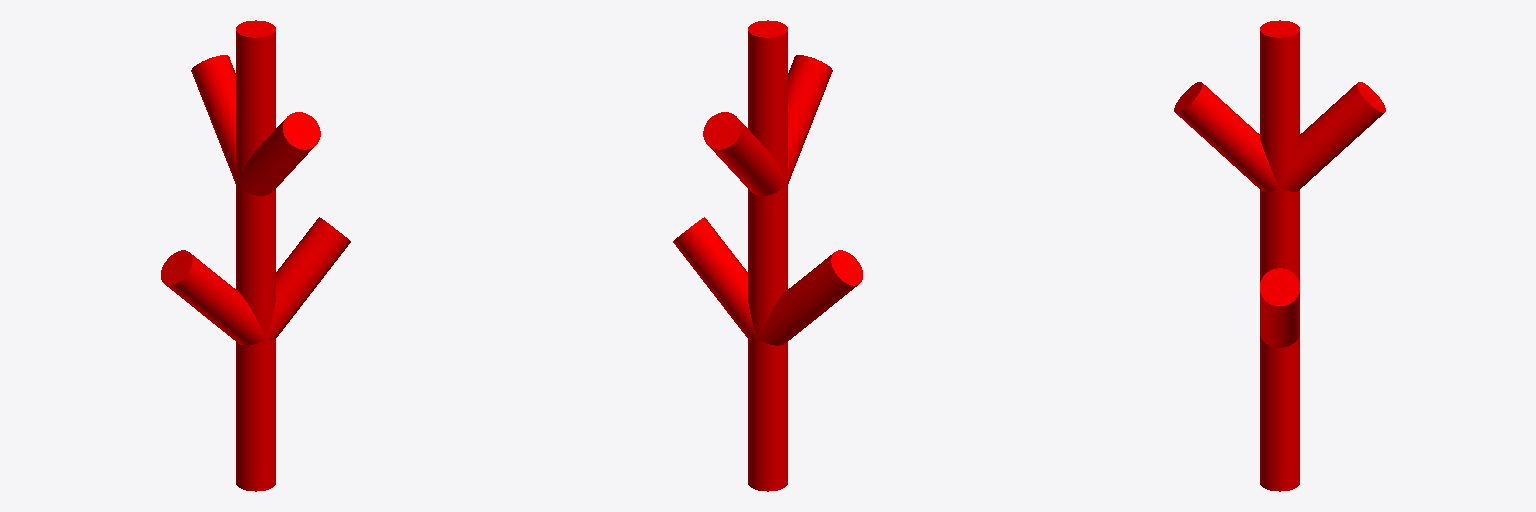
The robot description file, URDF, robot "tree.urdf":
<?xml version="1.0" ?>
<robot name="tree.urdf">
  <link name="baseLink">
    <inertial>
      <origin rpy="0 0 0" xyz="0 0 0"/>
       <mass value=".1"/>
       <inertia ixx="1" ixy="0" ixz="0" iyy="1" iyz="0" izz="1"/>
    </inertial>
    <visual>
      <origin rpy="0 0 0" xyz="0 0 0"/>
      <geometry>
        <mesh filename="5.stl" scale="1 1 1" />
      </geometry>
      <material name="red">
        <color rgba="1 0 0 1"/>
      </material>
    </visual>
    <collision>
      <origin rpy="0 0 0" xyz="0 0 0"/>
      <geometry>
        <mesh filename="5_convex.obj" scale="1 1 1" />
      </geometry>
    </collision>
  </link>
</robot>

--- Render facts (derived) ---
3 views of the same robot in one strip: view 1: azimuth 30°, elevation 25°; view 2: azimuth 150°, elevation 25°; view 3: azimuth 270°, elevation 25° (orthographic).
Model tree.urdf with 1 links and 0 joints (none), rooted at baseLink, posed all joints at 0.
Visible links, largest first — view 1: baseLink; view 2: baseLink; view 3: baseLink.
Link boxes in pixels (x1,y1,x2,y2): baseLink: [161, 20, 350, 491]; baseLink: [673, 20, 862, 491]; baseLink: [1174, 20, 1385, 491].
Bounding box of the posed robot: 0.2502 × 0.2502 × 0.5913 m (x, y, z).
1 mesh visuals loaded from 1 distinct referenced files (1 binary STL).